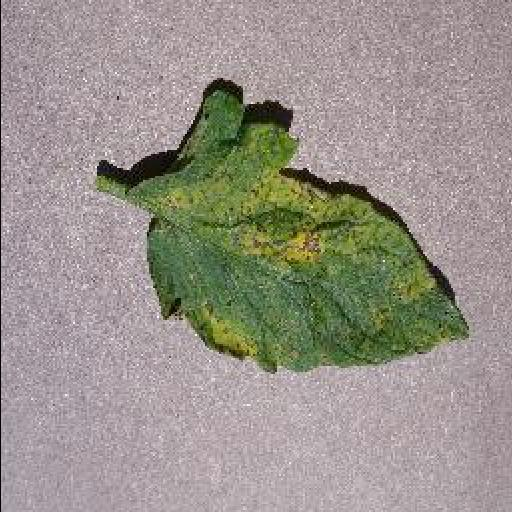disease_tomato: (142, 87, 470, 376)
